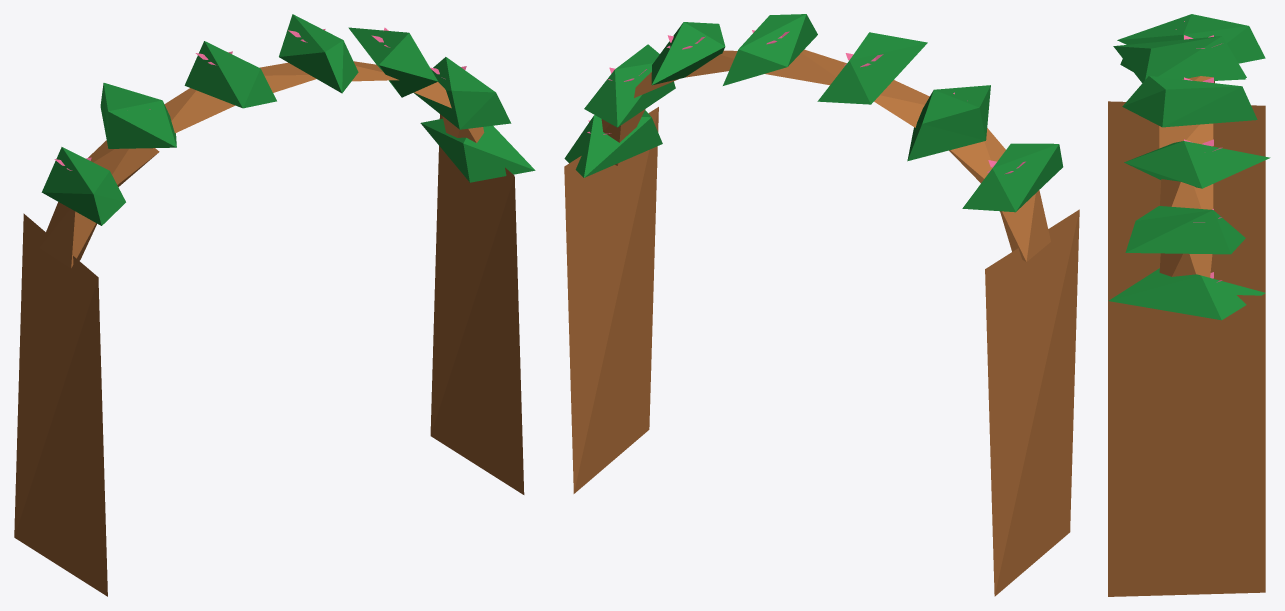
The model's file is flower_arch.fbx.
3 views of the same model, side by side, from view 1: azimuth 30°, elevation 25°; view 2: azimuth 150°, elevation 25°; view 3: azimuth 270°, elevation 25° (orthographic). The views are drawn at different scales.
Parts seen in each view (by area): view 1: flower_arch; view 2: flower_arch; view 3: flower_arch.
Boxes of the visible parts, left/top/right/bottom form: flower_arch: left=14, top=14, right=535, bottom=596; flower_arch: left=564, top=14, right=1079, bottom=596; flower_arch: left=1108, top=14, right=1270, bottom=596.
Size of the model in its own units: 3 by 3 by 1.
